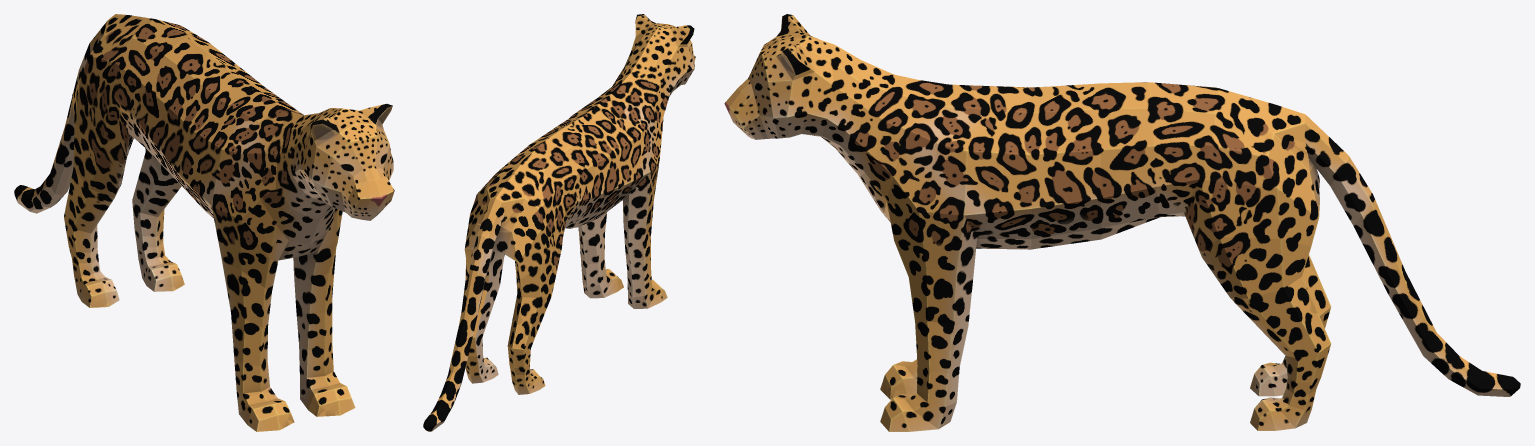
The model's file is jaguar.glb.
3 renders of one model, left to right at view 1: azimuth 30°, elevation 25°; view 2: azimuth 150°, elevation 25°; view 3: azimuth 270°, elevation 25°, orthographic. The views are drawn at different scales.
Visible parts, largest first — view 1: Object_2; view 2: Object_2; view 3: Object_2.
Boxes of the visible parts, box(x1,y1,x2,y2) form: Object_2: box(14, 14, 394, 431); Object_2: box(423, 14, 695, 431); Object_2: box(724, 14, 1520, 431).
Bounding box in the file's own units: 2.51 × 6.84 × 13.22.
Materials: 1 (1 with a texture image).
